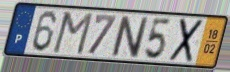5: (142, 16, 175, 61)
6: (31, 8, 58, 55)
7: (87, 13, 119, 58)
M: (50, 10, 95, 57)
N: (110, 14, 150, 60)
X: (166, 17, 205, 65)
